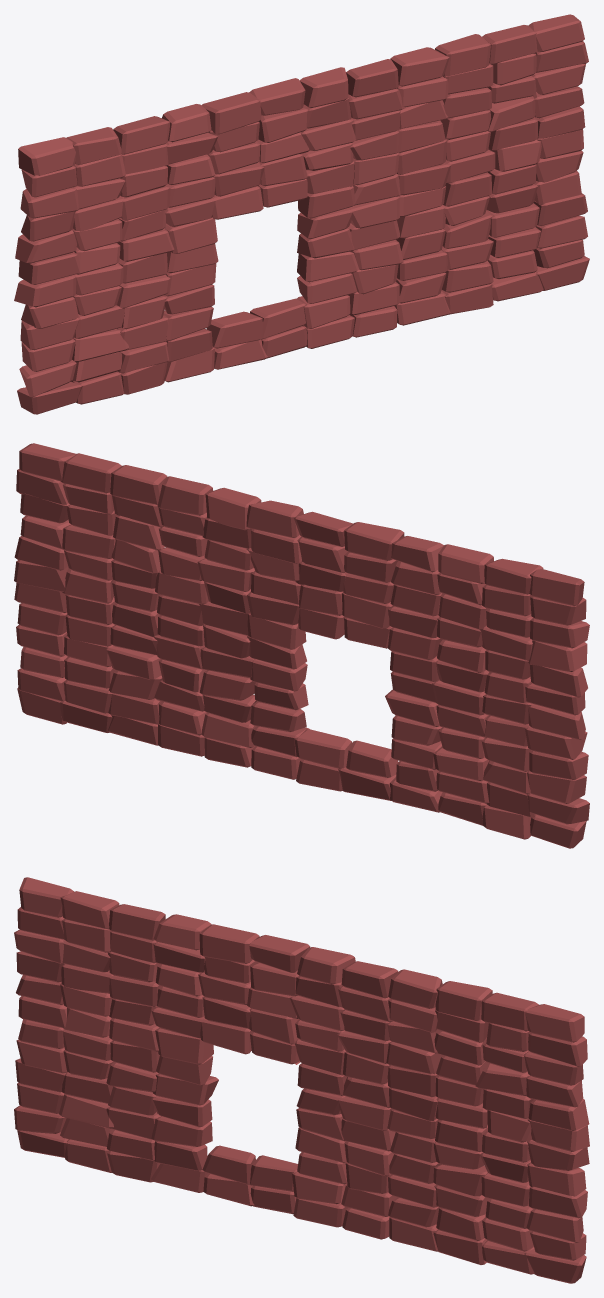
File: MainWall.gltf
3 views of the same model, one above another, from view 1: azimuth 30°, elevation 25°; view 2: azimuth 150°, elevation 25°; view 3: azimuth 330°, elevation 25° (orthographic).
Visible parts, largest first — view 1: Wall; view 2: Wall; view 3: Wall.
Boxes of the visible parts, x1,y1,x2,y2 form: Wall: [14, 14, 589, 414]; Wall: [14, 443, 589, 848]; Wall: [14, 877, 589, 1283].
Size of the model in its own units: 6.26 by 2.82 by 0.3098.
